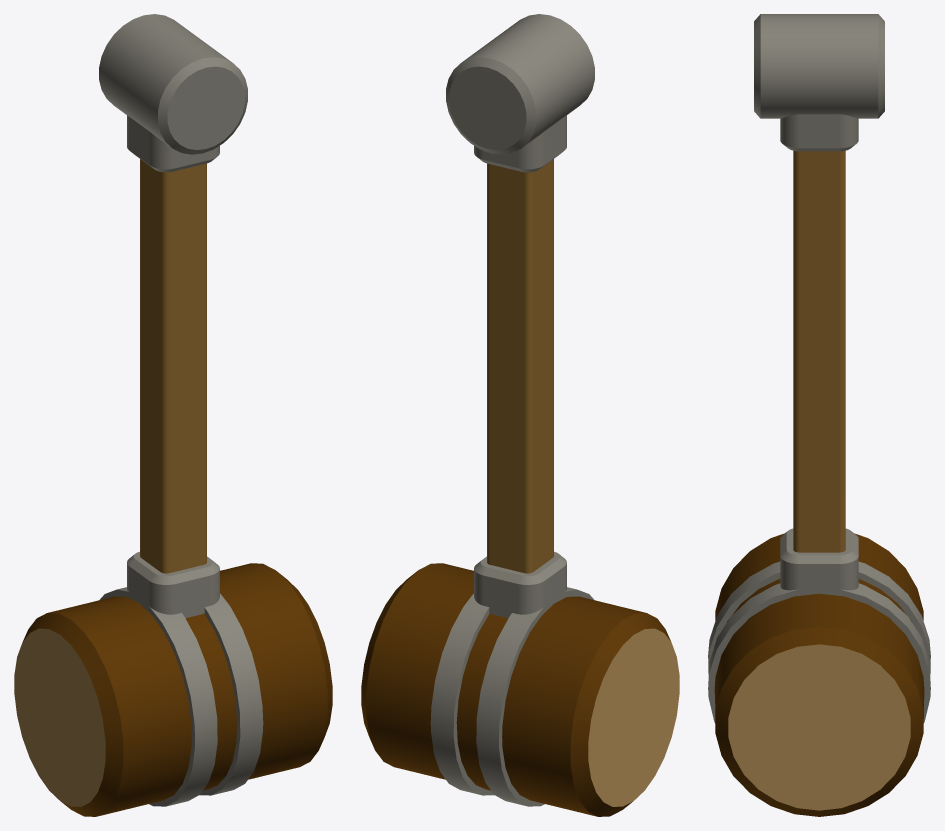
File: Prop_Obstacle_Swinging_Hammer.obj
The picture shows the model from 3 angles, left to right: view 1: azimuth 30°, elevation 25°; view 2: azimuth 150°, elevation 25°; view 3: azimuth 270°, elevation 25°; orthographic projection.
Parts seen in each view (by area): view 1: object1; view 2: object1; view 3: object1.
Boxes of the visible parts, x1,y1,x2,y2 form: object1: (14,14,332,816); object1: (361,14,679,816); object1: (708,14,930,816).
Bounding box in the file's own units: 1 × 3.17 × 0.85.
